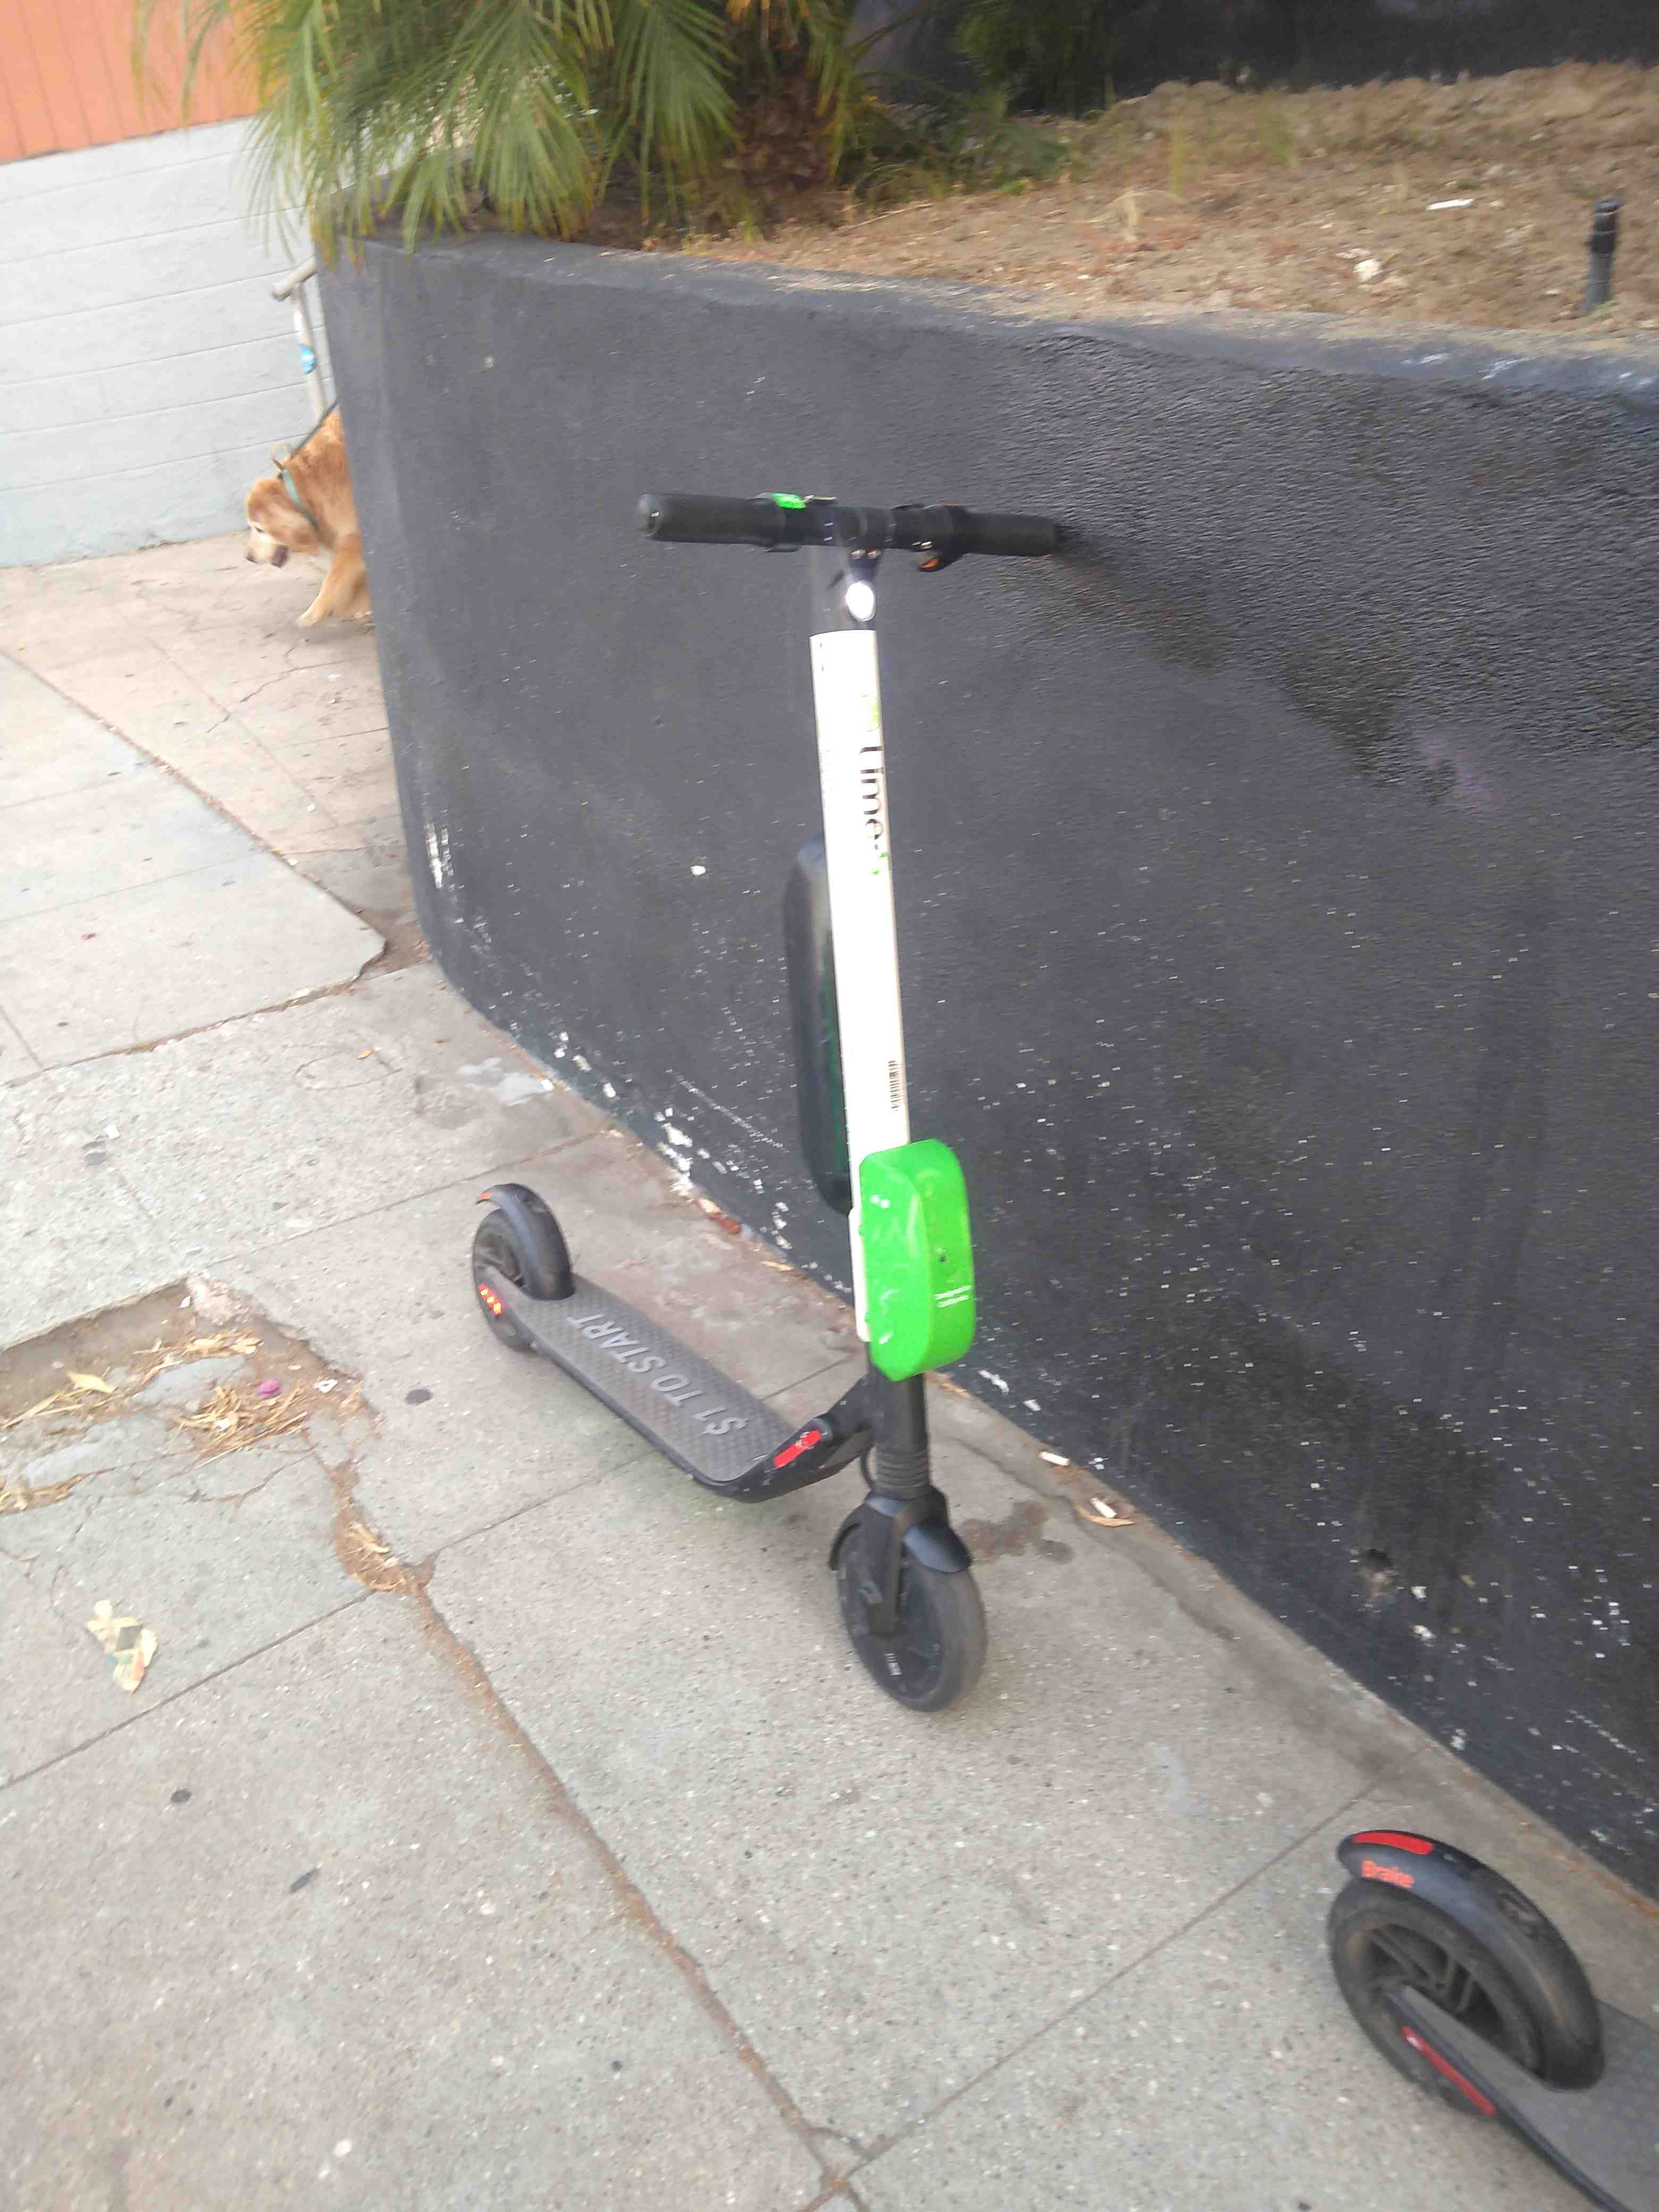scooter: (375, 446, 1148, 1766)
